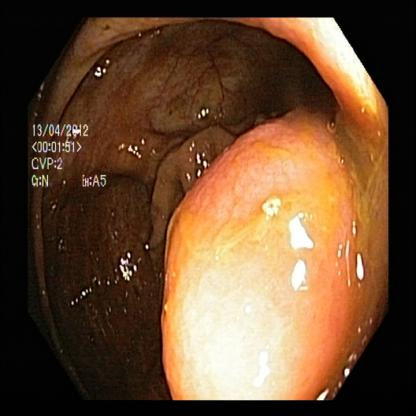Labels: (28, 114, 119, 193)
Polyps: (160, 149, 342, 400)
